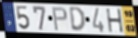4: (92, 7, 106, 34)
5: (15, 5, 31, 30)
7: (31, 5, 47, 32)
D: (68, 6, 87, 33)
H: (105, 8, 125, 34)
P: (51, 7, 69, 32)
